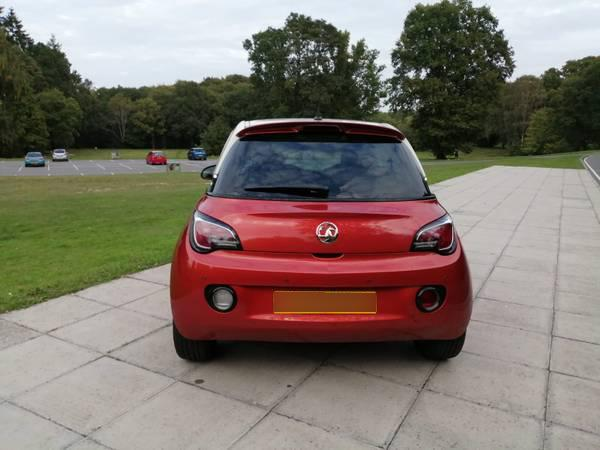Left_Taillight: (189, 209, 242, 253)
Rear_Bumper: (167, 222, 473, 346)
Rear_Windshield: (206, 127, 434, 198)
Right_Taillight: (410, 211, 457, 257)
Roof: (228, 114, 406, 140)
Tailgate: (198, 193, 444, 252)
